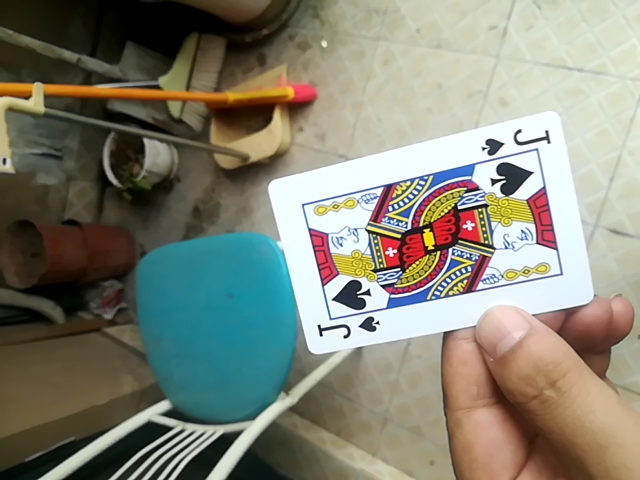ht j: (262, 111, 592, 358)
